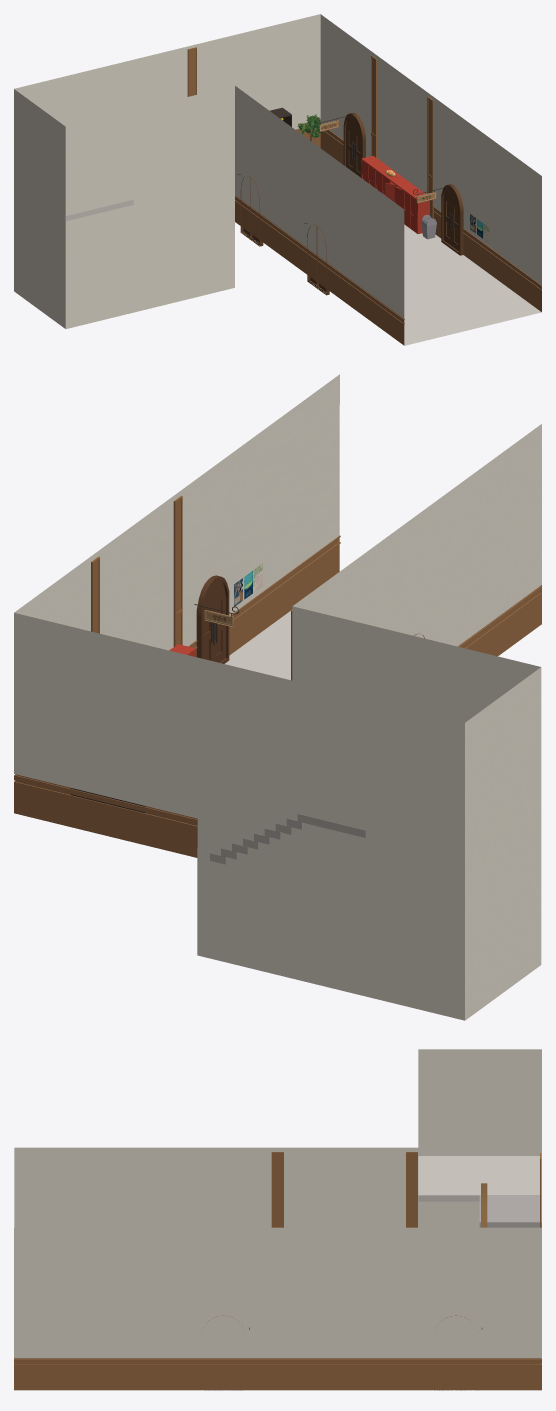
The model's file is corridor2.fbx.
The picture shows the model from 3 angles, top to bottom: view 1: azimuth 30°, elevation 25°; view 2: azimuth 150°, elevation 25°; view 3: azimuth 270°, elevation 25°; orthographic projection. The views are drawn at different scales.
Visible parts, largest first — view 1: corrodor2; view 2: corrodor2; view 3: corrodor2.
Part boxes in pixels (box(x1,y1,x2,y2)): corrodor2: box(14, 14, 541, 345); corrodor2: box(14, 374, 541, 1020); corrodor2: box(14, 1049, 541, 1390).
Bounding box in the file's own units: 18.71 × 11.72 × 23.24.
2 materials, 2 textured.
